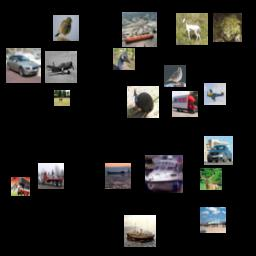airplane: (45, 51, 77, 83), (200, 207, 226, 233), (204, 83, 226, 105)
automobile: (6, 48, 41, 83), (204, 136, 233, 165)
bird: (127, 86, 159, 118), (53, 15, 79, 41), (113, 48, 135, 70), (164, 65, 186, 87)
deer: (176, 13, 208, 45), (200, 168, 222, 190), (54, 90, 70, 106)
frog: (213, 13, 242, 42)
ship: (145, 155, 183, 193), (122, 12, 157, 47), (124, 215, 156, 247), (105, 163, 131, 189)
truck: (38, 163, 64, 189), (172, 91, 198, 117), (11, 177, 30, 196)
